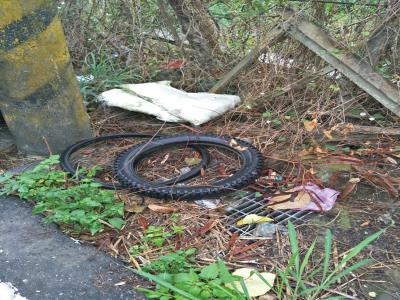plastic_bag: (103, 83, 216, 123)
tire: (112, 133, 268, 204), (59, 132, 211, 195)
